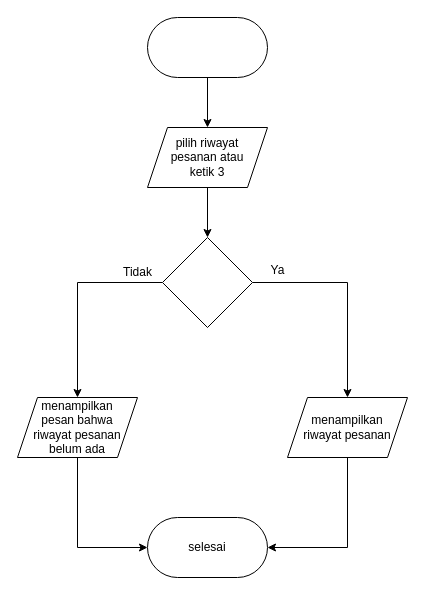
Some shapes in this 425 by 595 pixel diagram are drawn without their labels. The centre of each missing label's shape, as x and y in pixels:
"mulai" belongs at [207,47].
"sudah ada riwayat?" belongs at [207,282].
